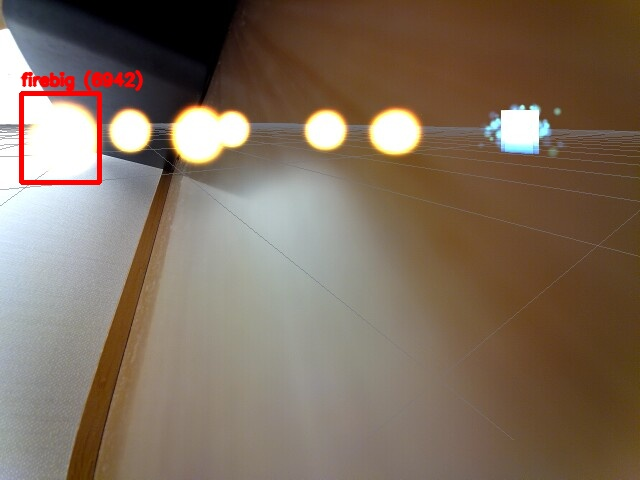firebig: (21, 93, 99, 182)
